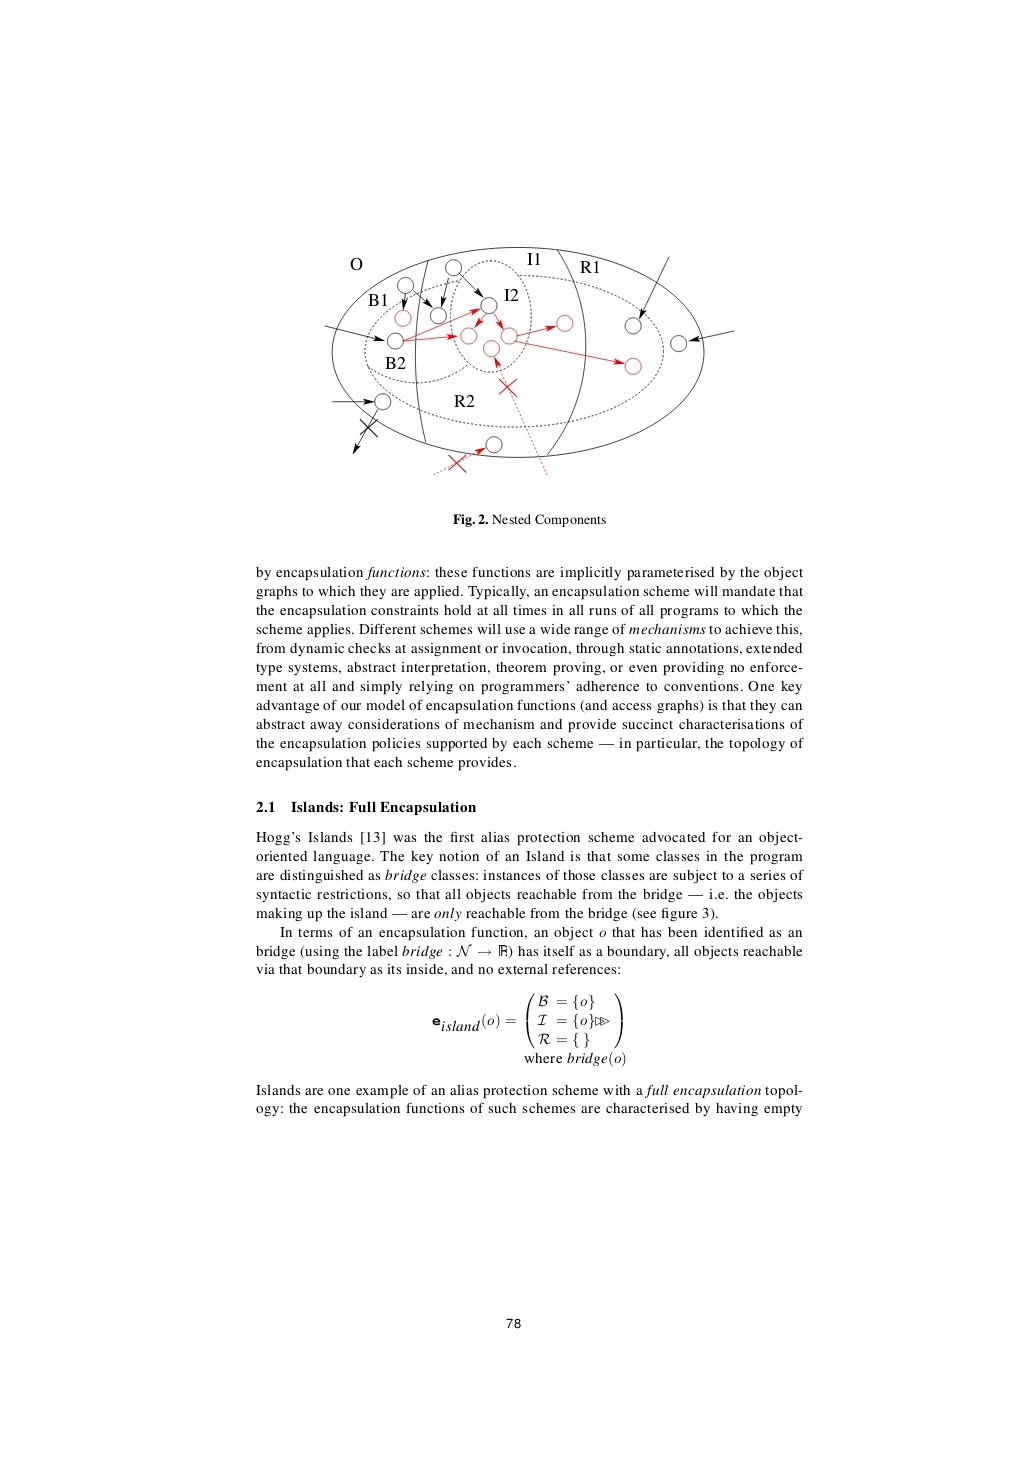figure: (324, 245, 734, 475)
formula: (432, 992, 622, 1049), (524, 1050, 625, 1067)
